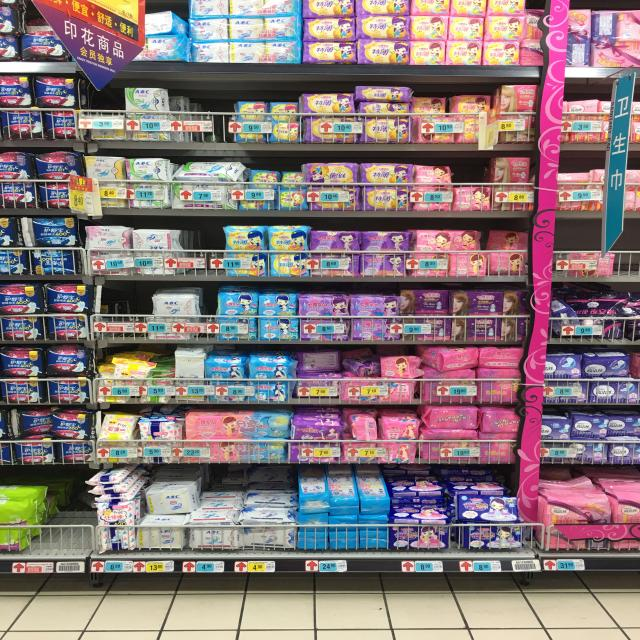empty: (34, 471, 106, 556), (180, 89, 235, 138), (101, 283, 144, 334), (181, 223, 220, 271)
